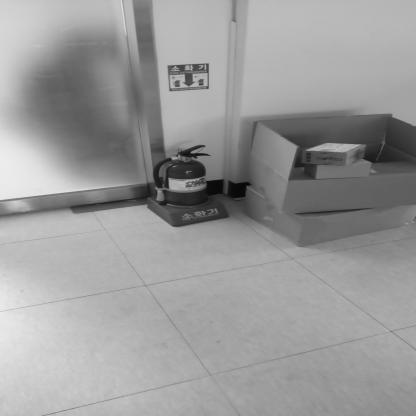FE: (147, 144, 227, 226)
